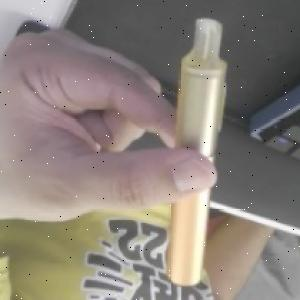Golden-E-Ciggirate: (164, 17, 230, 287)
